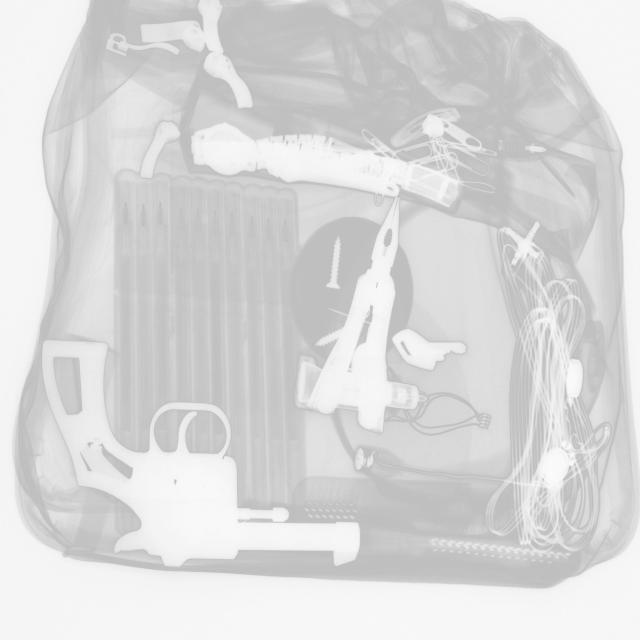pistol: (36, 332, 366, 572)
